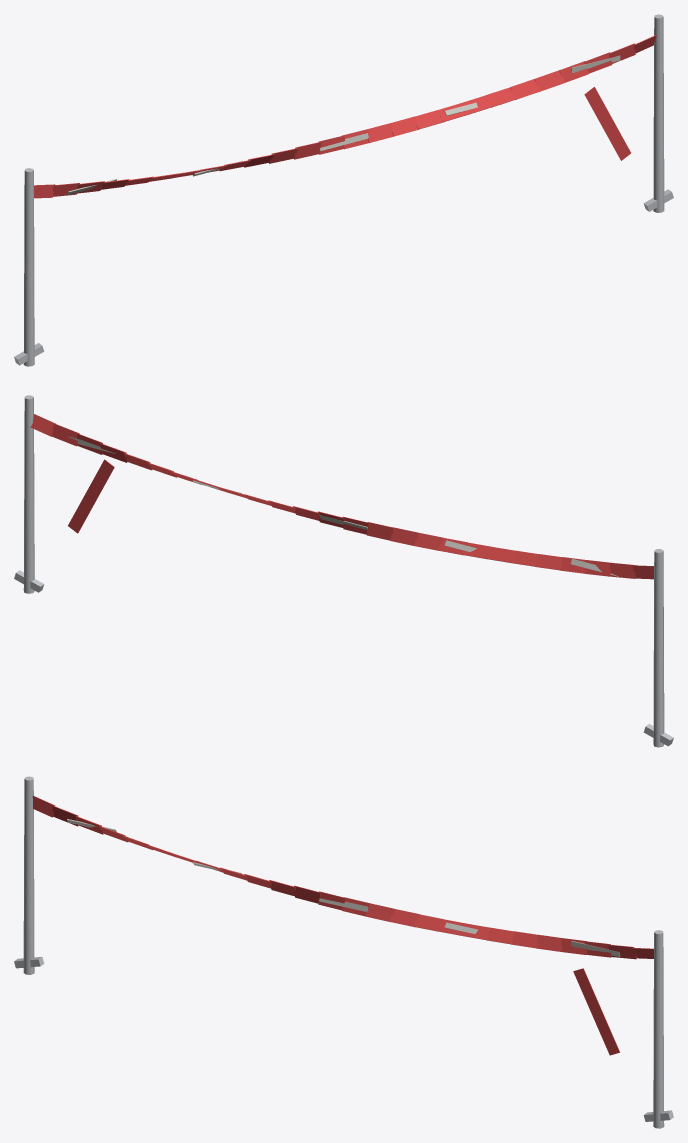
Rendered from halloween-slasher-street-police-tape-run-b9dfb3cd__27315.glb.
3 renders of one model, top to bottom at view 1: azimuth 30°, elevation 25°; view 2: azimuth 150°, elevation 25°; view 3: azimuth 330°, elevation 25°, orthographic.
Parts seen in each view (by area): view 1: police-tape-run; view 2: police-tape-run; view 3: police-tape-run.
Part boxes in pixels (x1=…): police-tape-run: x1=14, y1=14, x2=673, y2=366; police-tape-run: x1=14, y1=395, x2=673, y2=747; police-tape-run: x1=14, y1=776, x2=673, y2=1128.
Bounding box in the file's own units: 4.06 × 1.15 × 0.0924.
Materials: 3 (1 with a texture image).
